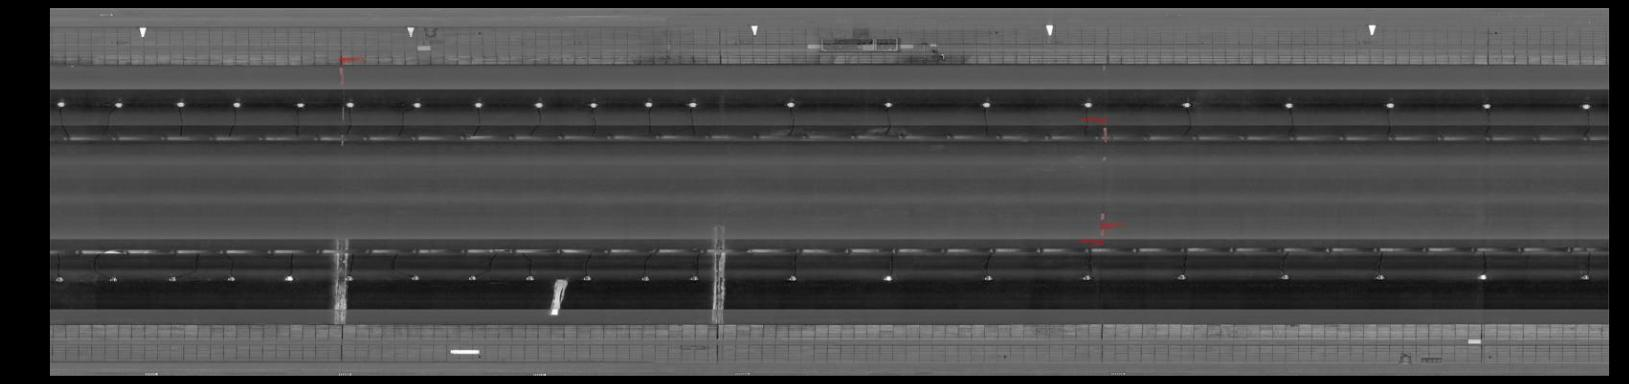light: (779, 98, 804, 111), (877, 270, 899, 284), (1369, 270, 1389, 284), (1170, 270, 1191, 283), (1076, 98, 1097, 111), (978, 271, 998, 284), (1575, 269, 1594, 283), (877, 97, 896, 111), (976, 98, 995, 111), (53, 271, 69, 287), (1474, 269, 1492, 283), (1279, 99, 1298, 112), (463, 271, 482, 284), (1275, 270, 1294, 282), (226, 98, 246, 110), (407, 98, 427, 110), (104, 270, 121, 284), (1177, 98, 1195, 111), (1477, 101, 1499, 111), (1380, 100, 1399, 111), (783, 273, 803, 284), (111, 97, 128, 110), (530, 98, 548, 110), (1077, 273, 1096, 284), (171, 98, 190, 109), (585, 98, 602, 110), (281, 271, 297, 283), (1577, 101, 1595, 112), (342, 97, 359, 108), (578, 272, 593, 284), (683, 98, 701, 108), (520, 273, 539, 283), (53, 98, 69, 110), (686, 273, 702, 284), (638, 273, 655, 284), (640, 99, 657, 110), (407, 273, 424, 284), (222, 272, 239, 283), (471, 99, 487, 110), (164, 273, 180, 284), (292, 99, 308, 110), (343, 273, 358, 283)
